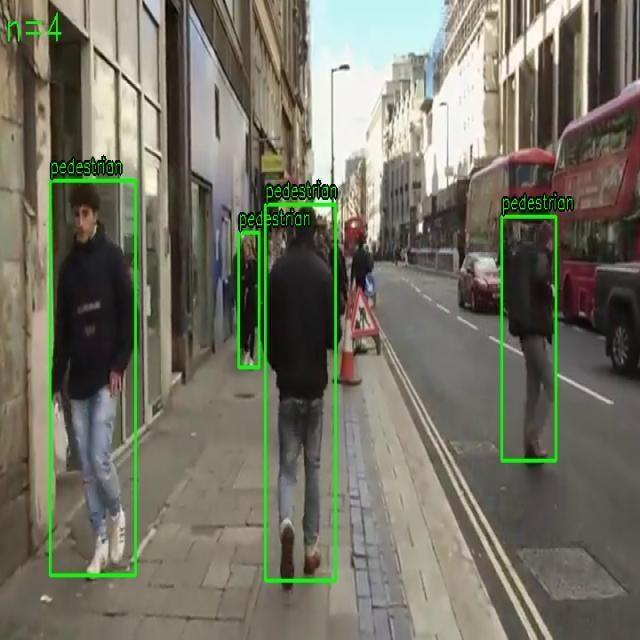person: (50, 180, 136, 576), (265, 204, 336, 582), (502, 216, 556, 461), (238, 232, 260, 368)
